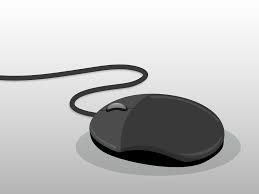mouse: (85, 83, 228, 166)
